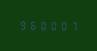nine: (17, 19, 26, 30)
seven: (68, 20, 77, 31)
six: (27, 19, 36, 30)
zero: (48, 19, 57, 31), (38, 19, 47, 30), (58, 20, 67, 31)
